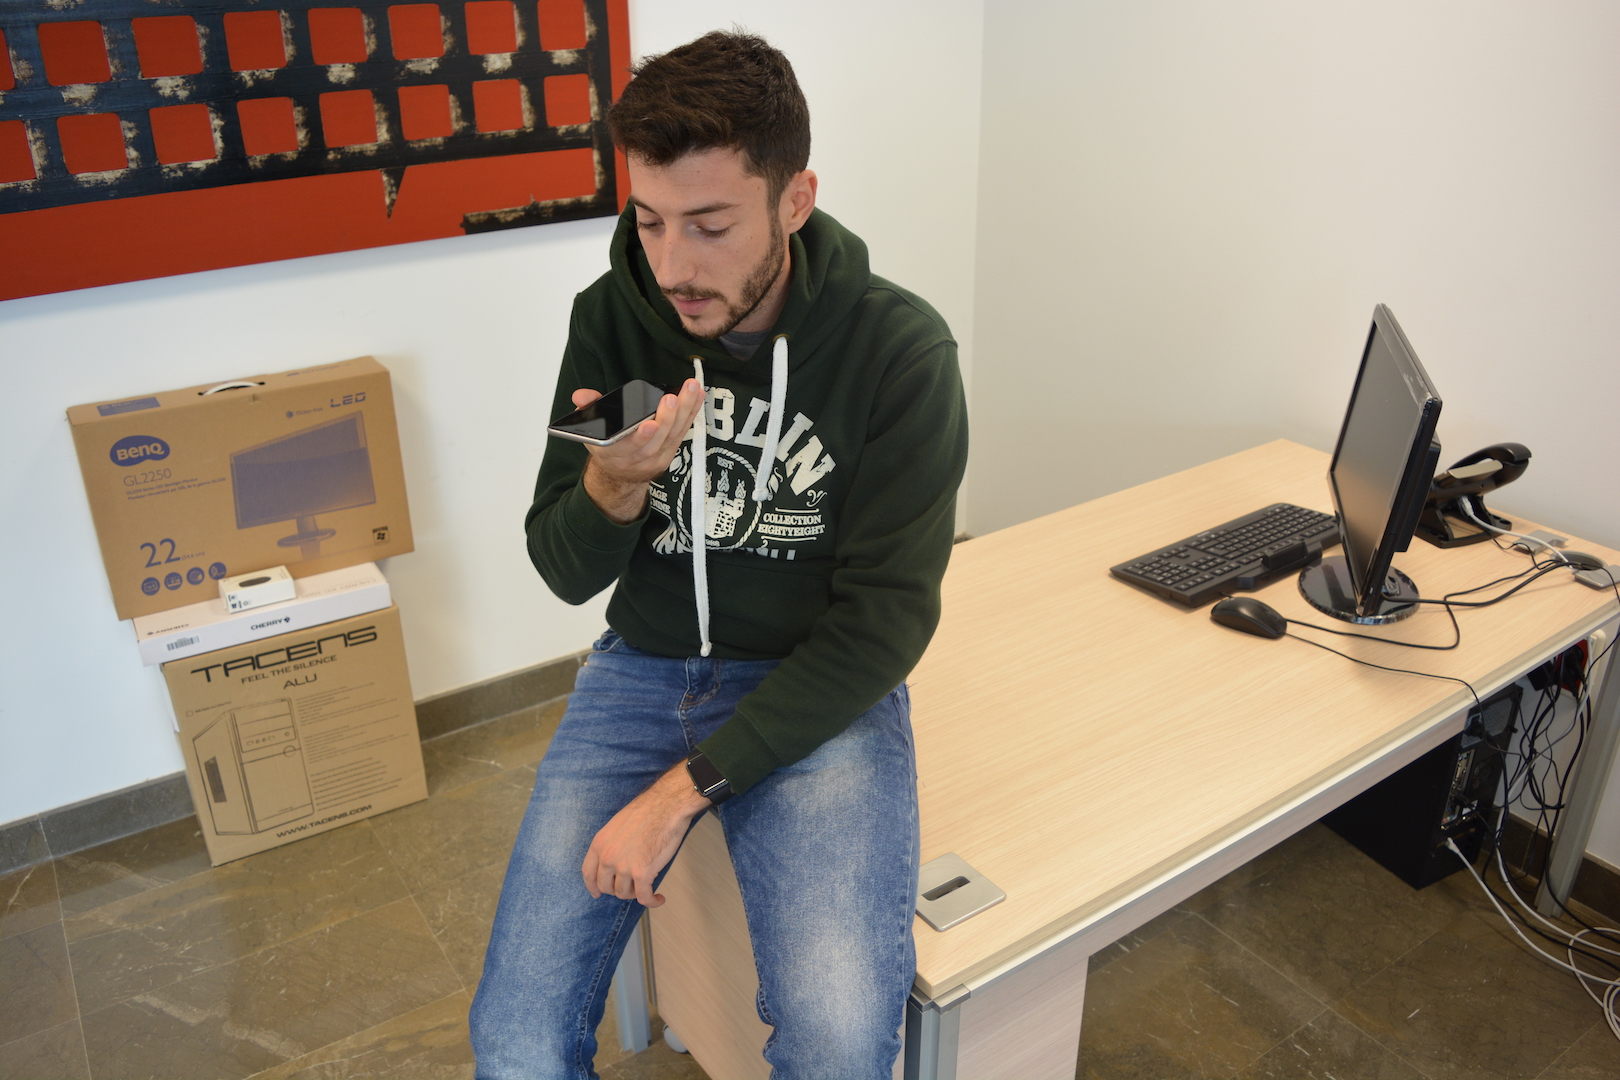smartphone: (546, 377, 683, 448)
